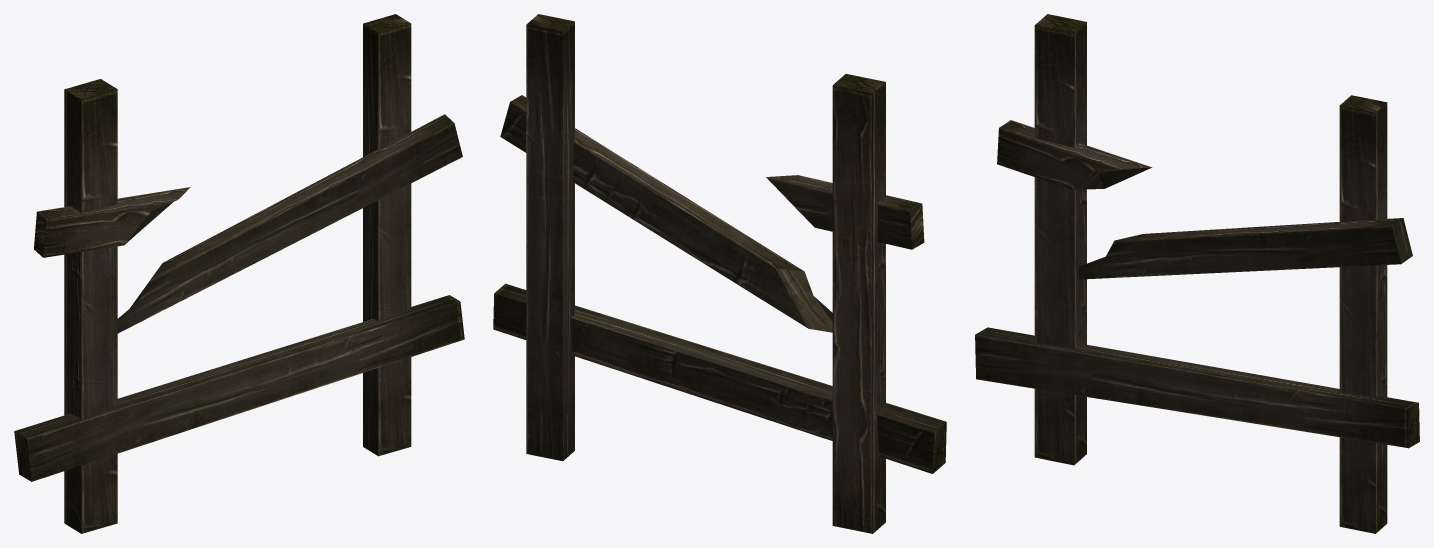
Rendered from C_mugan005.fbx.
The picture shows the model from 3 angles, left to right: view 1: azimuth 30°, elevation 25°; view 2: azimuth 150°, elevation 25°; view 3: azimuth 330°, elevation 25°; orthographic projection.
Visible parts, largest first — view 1: C_mugan005; view 2: C_mugan005; view 3: C_mugan005.
Boxes of the visible parts, x1=… form: C_mugan005: x1=14, y1=14, x2=464, y2=533; C_mugan005: x1=493, y1=14, x2=946, y2=533; C_mugan005: x1=975, y1=14, x2=1419, y2=533.
Bounding box in the file's own units: 154 × 146 × 16.51.
